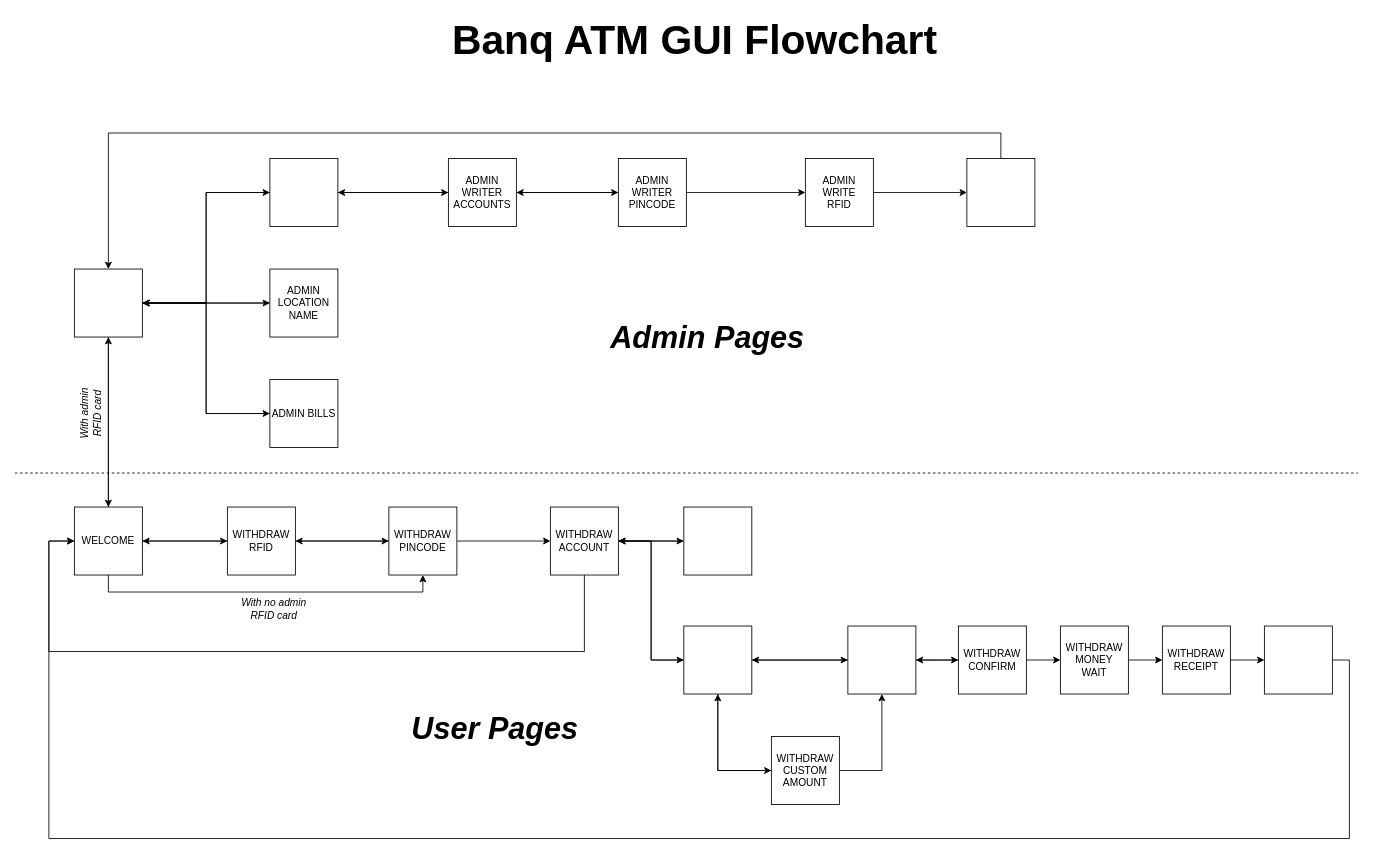
The diagram is 1374 pixels wide and 860 high, and some of its shapes have lost their labels. The box of each missing label's shape, as (x1, y1, x2, y2) in pixels:
ADMIN MENU: (74, 268, 142, 337)
ADMIN WRITE DONE: (966, 158, 1035, 227)
ADMIN WRITER LOGIN: (269, 158, 338, 227)
WITHDRAW AMOUNT: (683, 625, 752, 694)
WITHDRAW BALANCE: (683, 506, 752, 575)
WITHDRAW DONE: (1264, 625, 1332, 694)
WITHDRAW MONEY: (847, 625, 916, 694)
